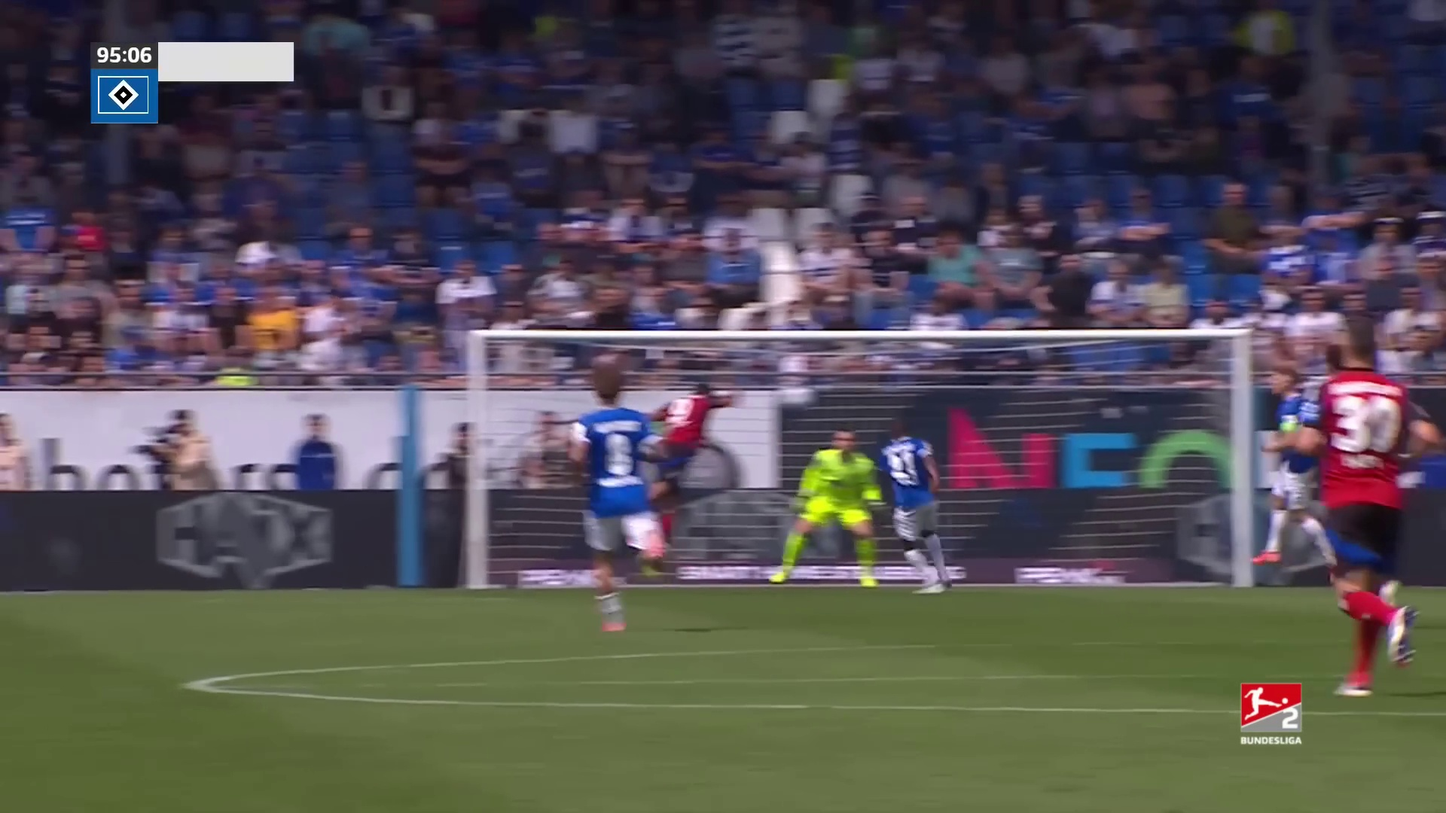ball: (779, 384, 817, 411)
player: (1295, 313, 1446, 704), (565, 365, 671, 632), (1250, 362, 1341, 586), (768, 426, 884, 588), (641, 382, 736, 576), (876, 411, 953, 595)
